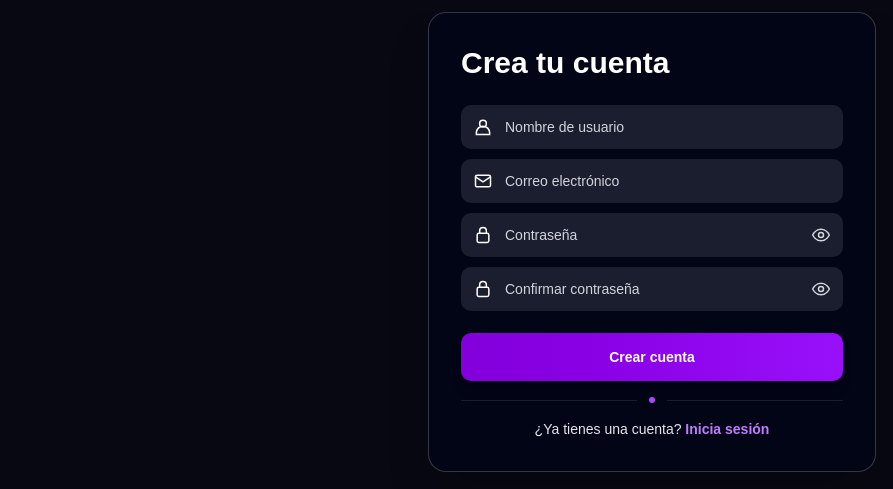
Scenario: RegisterForm › should navigate to the login page
The width and height of the screenshot is (893, 489).
Click the link "Inicia sesión" at (727,429), box left=685, top=421, right=769, bottom=437
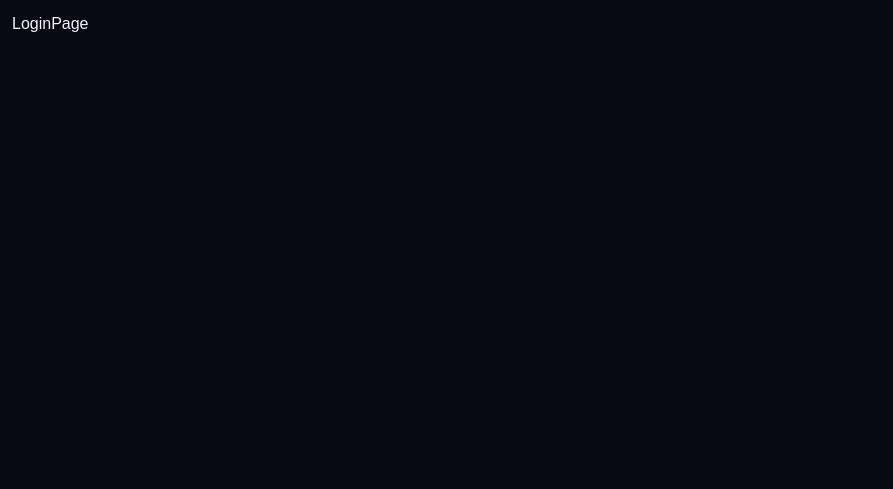
Expected: the heading "LoginPage" is shown, left=12, top=15, right=88, bottom=32
